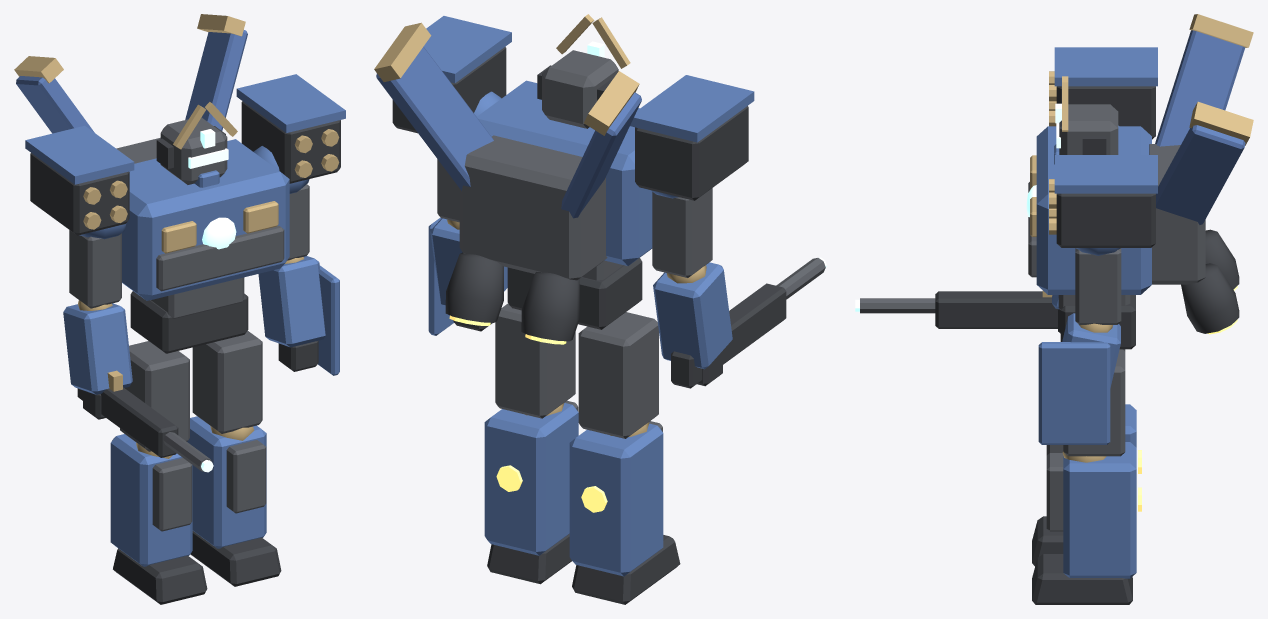
Rendered from mech.glb.
3 views of the same model, side by side, from view 1: azimuth 30°, elevation 25°; view 2: azimuth 150°, elevation 25°; view 3: azimuth 270°, elevation 25° (orthographic). The views are drawn at different scales.
Parts seen in each view (by area): view 1: body, leg_l, leg_r, arm_r, arm_l, pod_r, pod_l; view 2: body, leg_r, leg_l, arm_r, pod_r, pod_l, arm_l; view 3: body, leg_l, arm_l, pod_l, pod_r, arm_r, leg_r.
Part boxes in pixels (box(x1,y1,x2,y2)): body: box(14, 14, 289, 353); leg_l: box(187, 331, 281, 586); leg_r: box(110, 341, 207, 604); arm_r: box(63, 223, 213, 472); arm_l: box(253, 146, 339, 375); pod_r: box(25, 125, 134, 235); pod_l: box(236, 74, 345, 183); body: box(374, 14, 652, 344); leg_r: box(569, 312, 680, 604); leg_l: box(484, 303, 578, 584); arm_r: box(651, 188, 826, 388); pod_r: box(630, 75, 754, 200); pod_l: box(392, 16, 511, 133); arm_l: box(428, 91, 507, 335); body: box(1026, 14, 1253, 349); leg_l: box(1032, 349, 1141, 604); arm_l: box(1038, 248, 1121, 444); pod_l: box(1049, 155, 1157, 247); pod_r: box(1049, 47, 1157, 139); arm_r: box(855, 125, 1118, 333); leg_r: box(1032, 349, 1141, 566).
Size of the model in its own units: 4.1 by 7.18 by 5.02.
